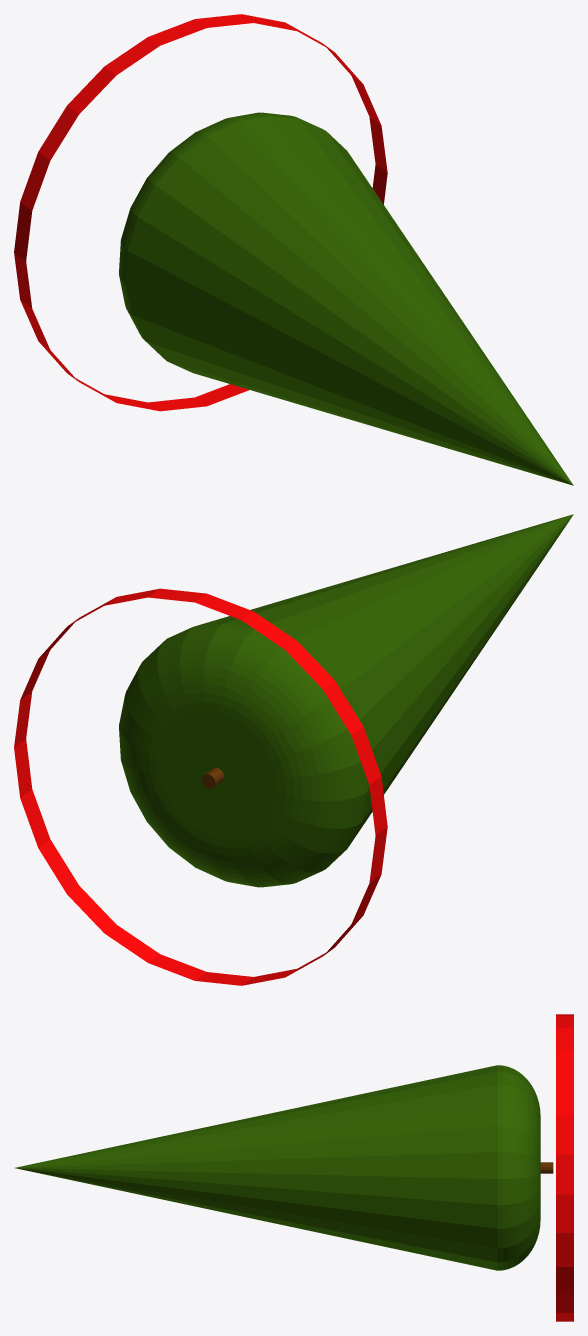
The model's file is HPKo21m.obj.
3 views of the same model, one above another, from view 1: azimuth 30°, elevation 25°; view 2: azimuth 150°, elevation 25°; view 3: azimuth 270°, elevation 25° (orthographic). The views are drawn at different scales.
Bounding box in the file's own units: 12 × 12 × 21.8.
